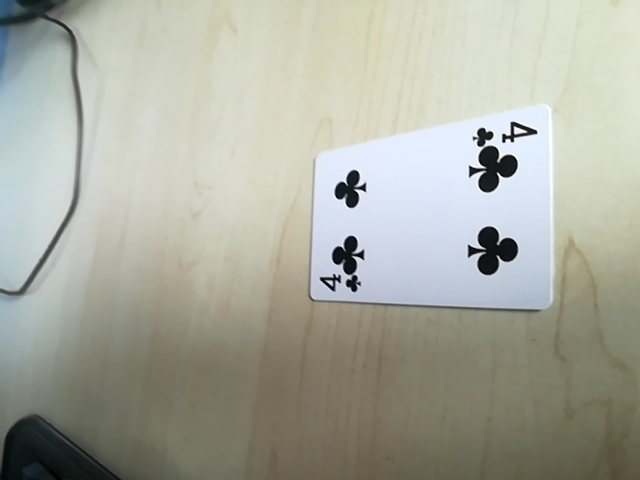mh 4: (472, 117, 539, 148), (312, 267, 364, 297)
